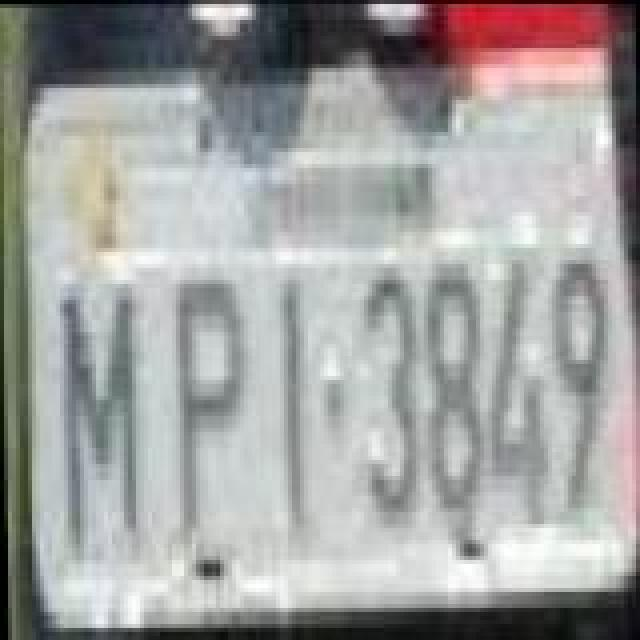1: (278, 262, 306, 526)
3: (356, 260, 420, 508)
4: (486, 242, 546, 522)
8: (424, 252, 488, 516)
9: (546, 244, 610, 508)
M: (58, 272, 142, 552)
P: (172, 272, 252, 536)
